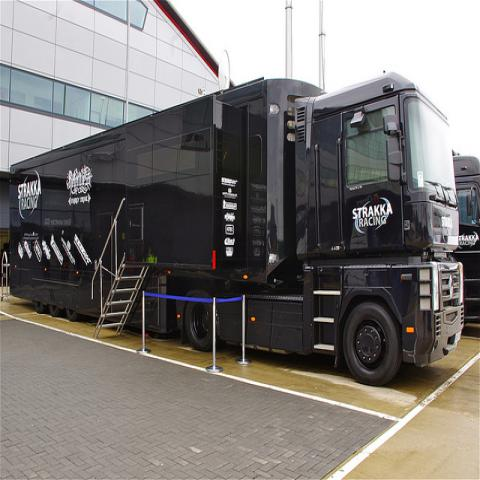truck: (9, 69, 464, 387)
